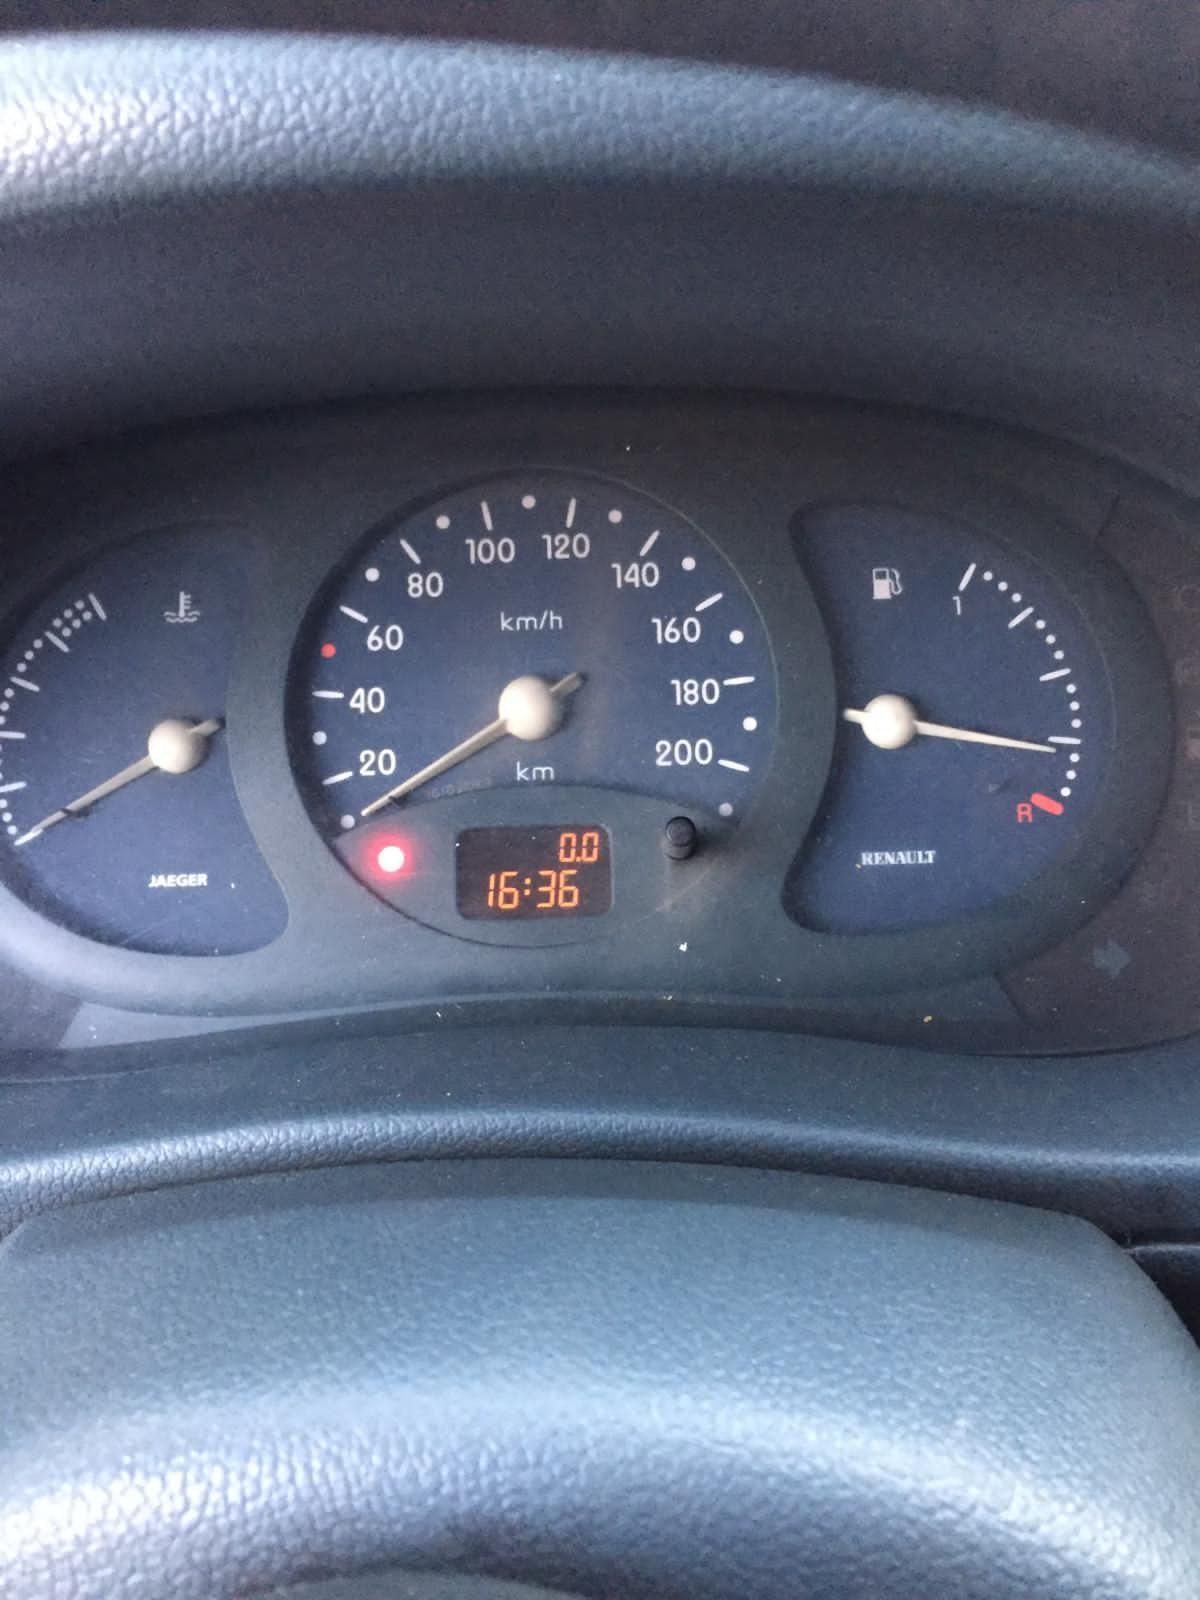,: (575, 855, 581, 863)
0: (581, 831, 599, 862), (558, 831, 575, 863)
1: (487, 872, 495, 908)
3: (536, 871, 557, 908)
6: (497, 871, 521, 910), (557, 868, 580, 908)
X: (522, 877, 531, 897)
odometer: (451, 821, 616, 923)
